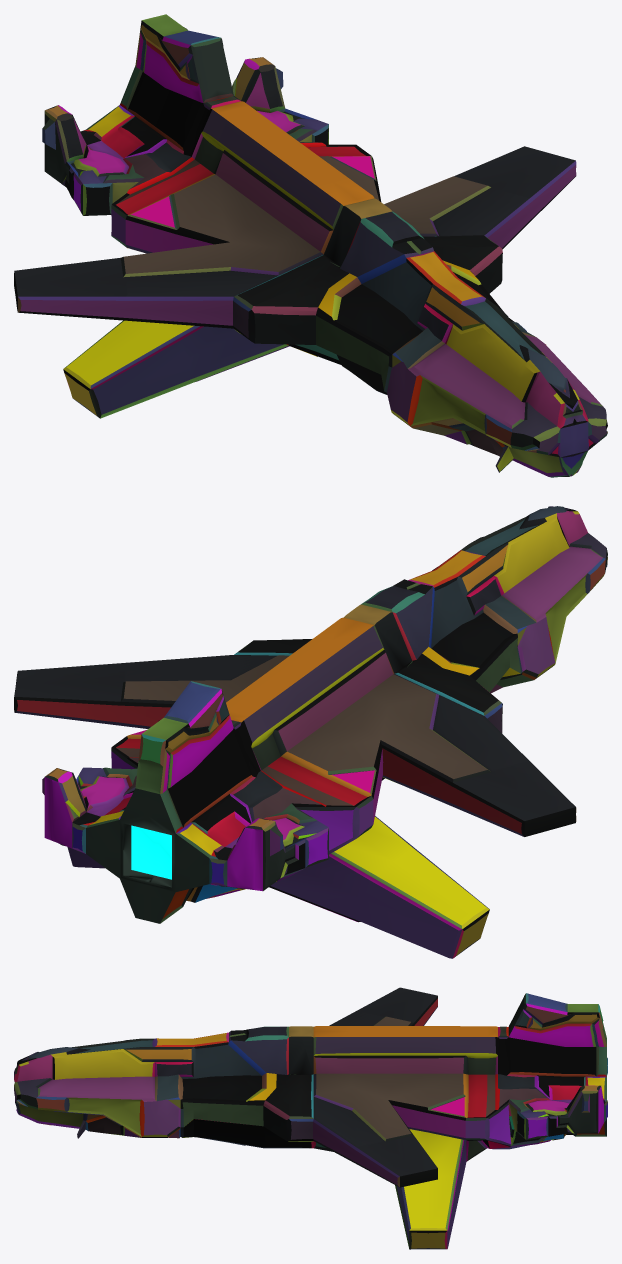
The model's file is raptor_fbx.fbx.
3 views of the same model, one above another, from view 1: azimuth 30°, elevation 25°; view 2: azimuth 150°, elevation 25°; view 3: azimuth 270°, elevation 25° (orthographic). The views are drawn at different scales.
Visible parts, largest first — view 1: R_Starship.003; view 2: R_Starship.003; view 3: R_Starship.003.
Part boxes in pixels (x1=…): R_Starship.003: x1=14, y1=14, x2=607, y2=477; R_Starship.003: x1=14, y1=506, x2=607, y2=958; R_Starship.003: x1=14, y1=987, x2=607, y2=1249.
Bounding box in the file's own units: 587 × 271 × 780.
